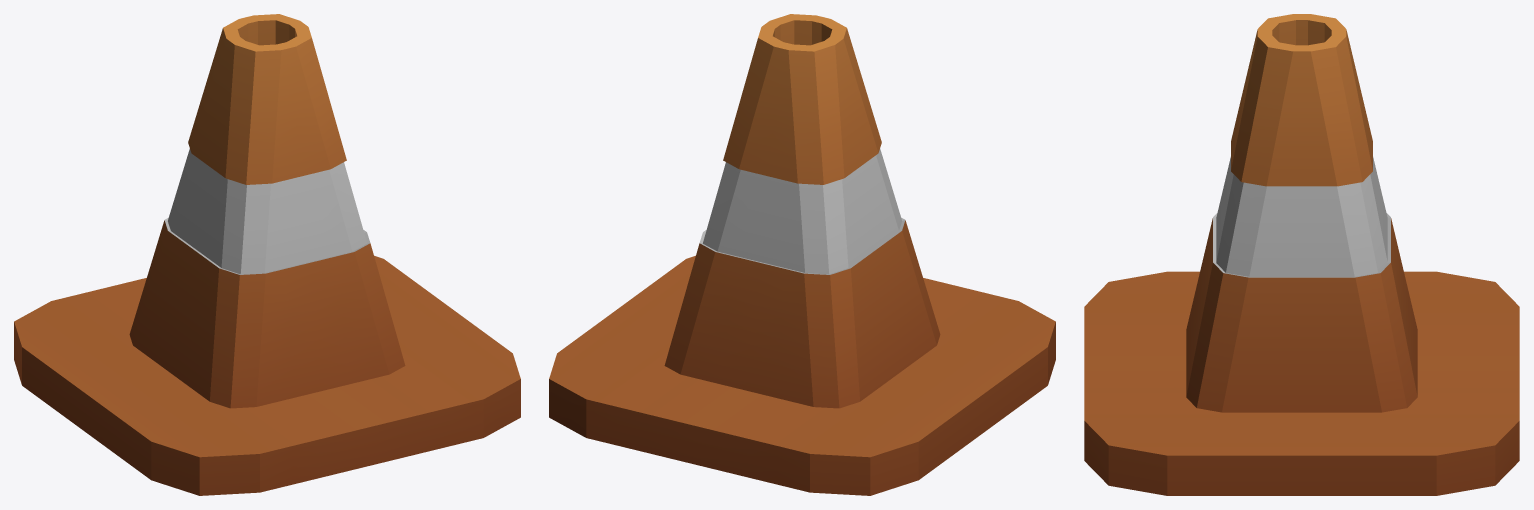
The picture shows the model from 3 angles, left to right: view 1: azimuth 30°, elevation 25°; view 2: azimuth 150°, elevation 25°; view 3: azimuth 270°, elevation 25°; orthographic projection. The views are drawn at different scales.
Parts seen in each view (by area): view 1: Cone; view 2: Cone; view 3: Cone.
Part boxes in pixels (bbox=[...]): Cone: bbox=[14, 14, 520, 495]; Cone: bbox=[549, 14, 1055, 495]; Cone: bbox=[1084, 14, 1519, 495].
Size of the model in its own units: 1 by 0.941 by 1.
